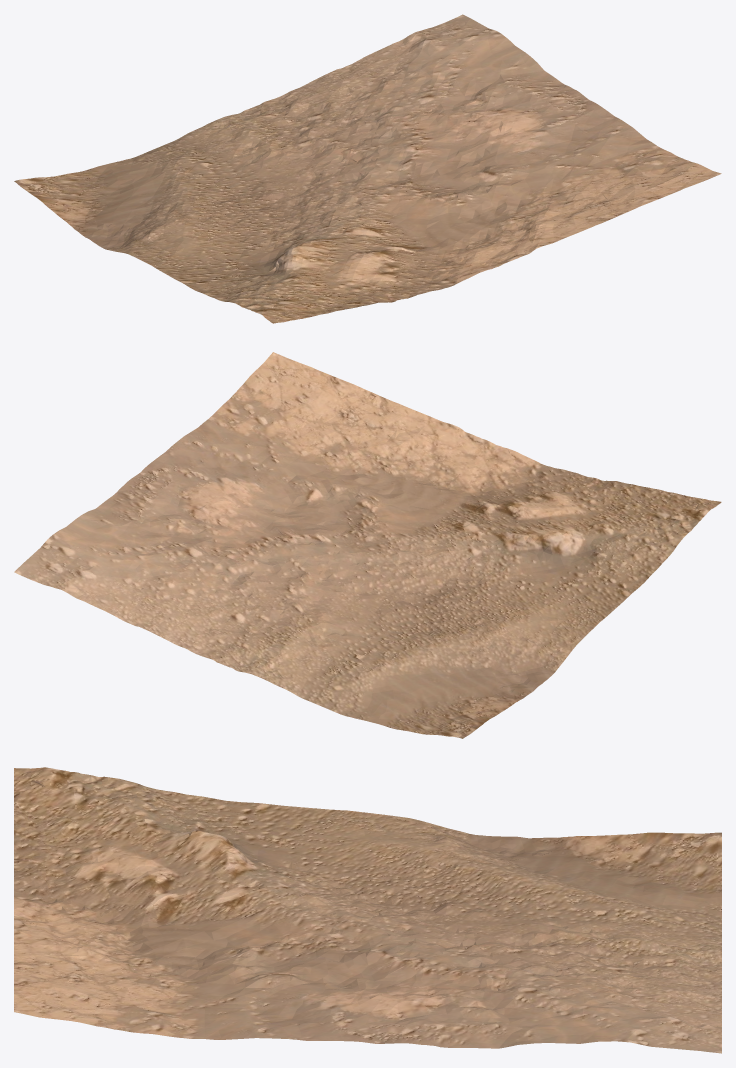
3 views of the same model, one above another, from view 1: azimuth 30°, elevation 25°; view 2: azimuth 150°, elevation 25°; view 3: azimuth 270°, elevation 25° (orthographic). The views are drawn at different scales.
Bounding box in the file's own units: 1.04 × 0.21 × 1.04.
2 materials, 2 textured.
